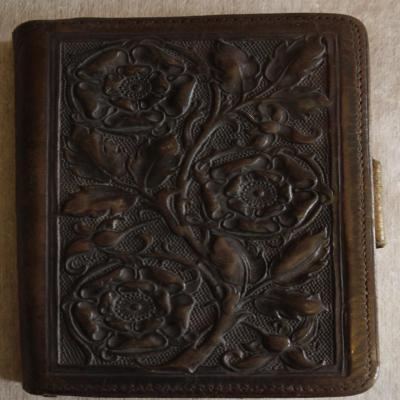document: (11, 13, 381, 400)
